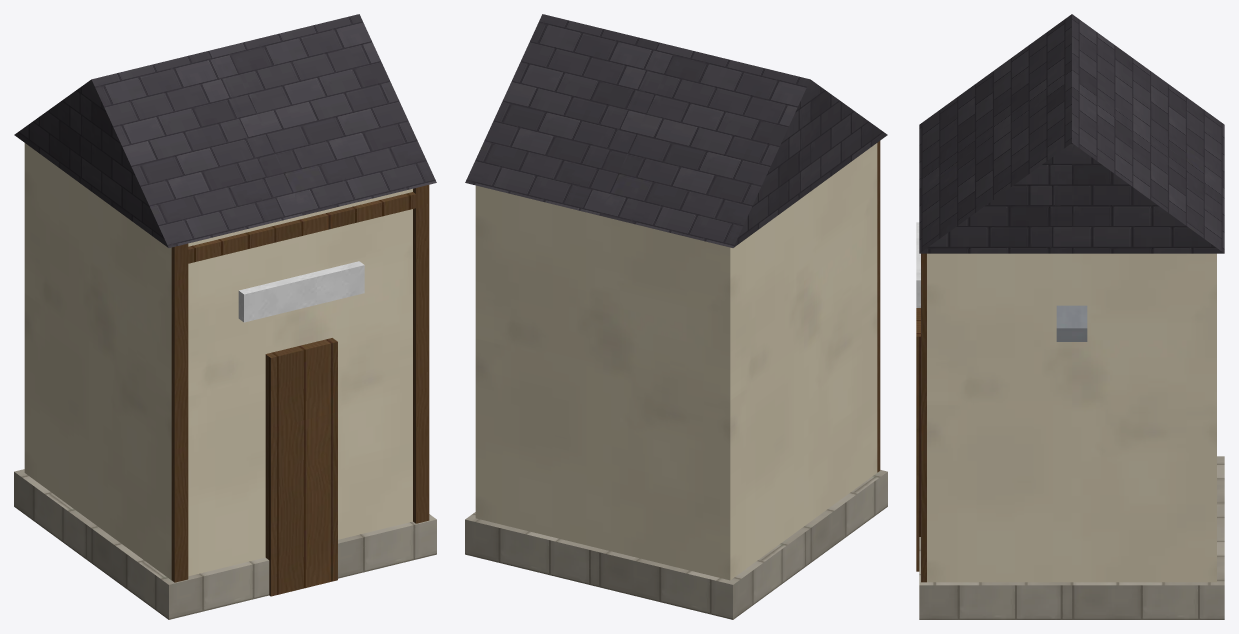
The model's file is category.bridge.t1.glb.
3 renders of one model, left to right at view 1: azimuth 30°, elevation 25°; view 2: azimuth 150°, elevation 25°; view 3: azimuth 270°, elevation 25°, orthographic.
Visible parts, largest first — view 1: building.category.bridge.t1; view 2: building.category.bridge.t1; view 3: building.category.bridge.t1.
Boxes of the visible parts, x1,y1,x2,y2 form: building.category.bridge.t1: [14, 14, 436, 619]; building.category.bridge.t1: [465, 14, 887, 619]; building.category.bridge.t1: [916, 14, 1224, 619].
Bounding box in the file's own units: 2.3 × 3.45 × 2.02.
6 materials, 6 textured.
